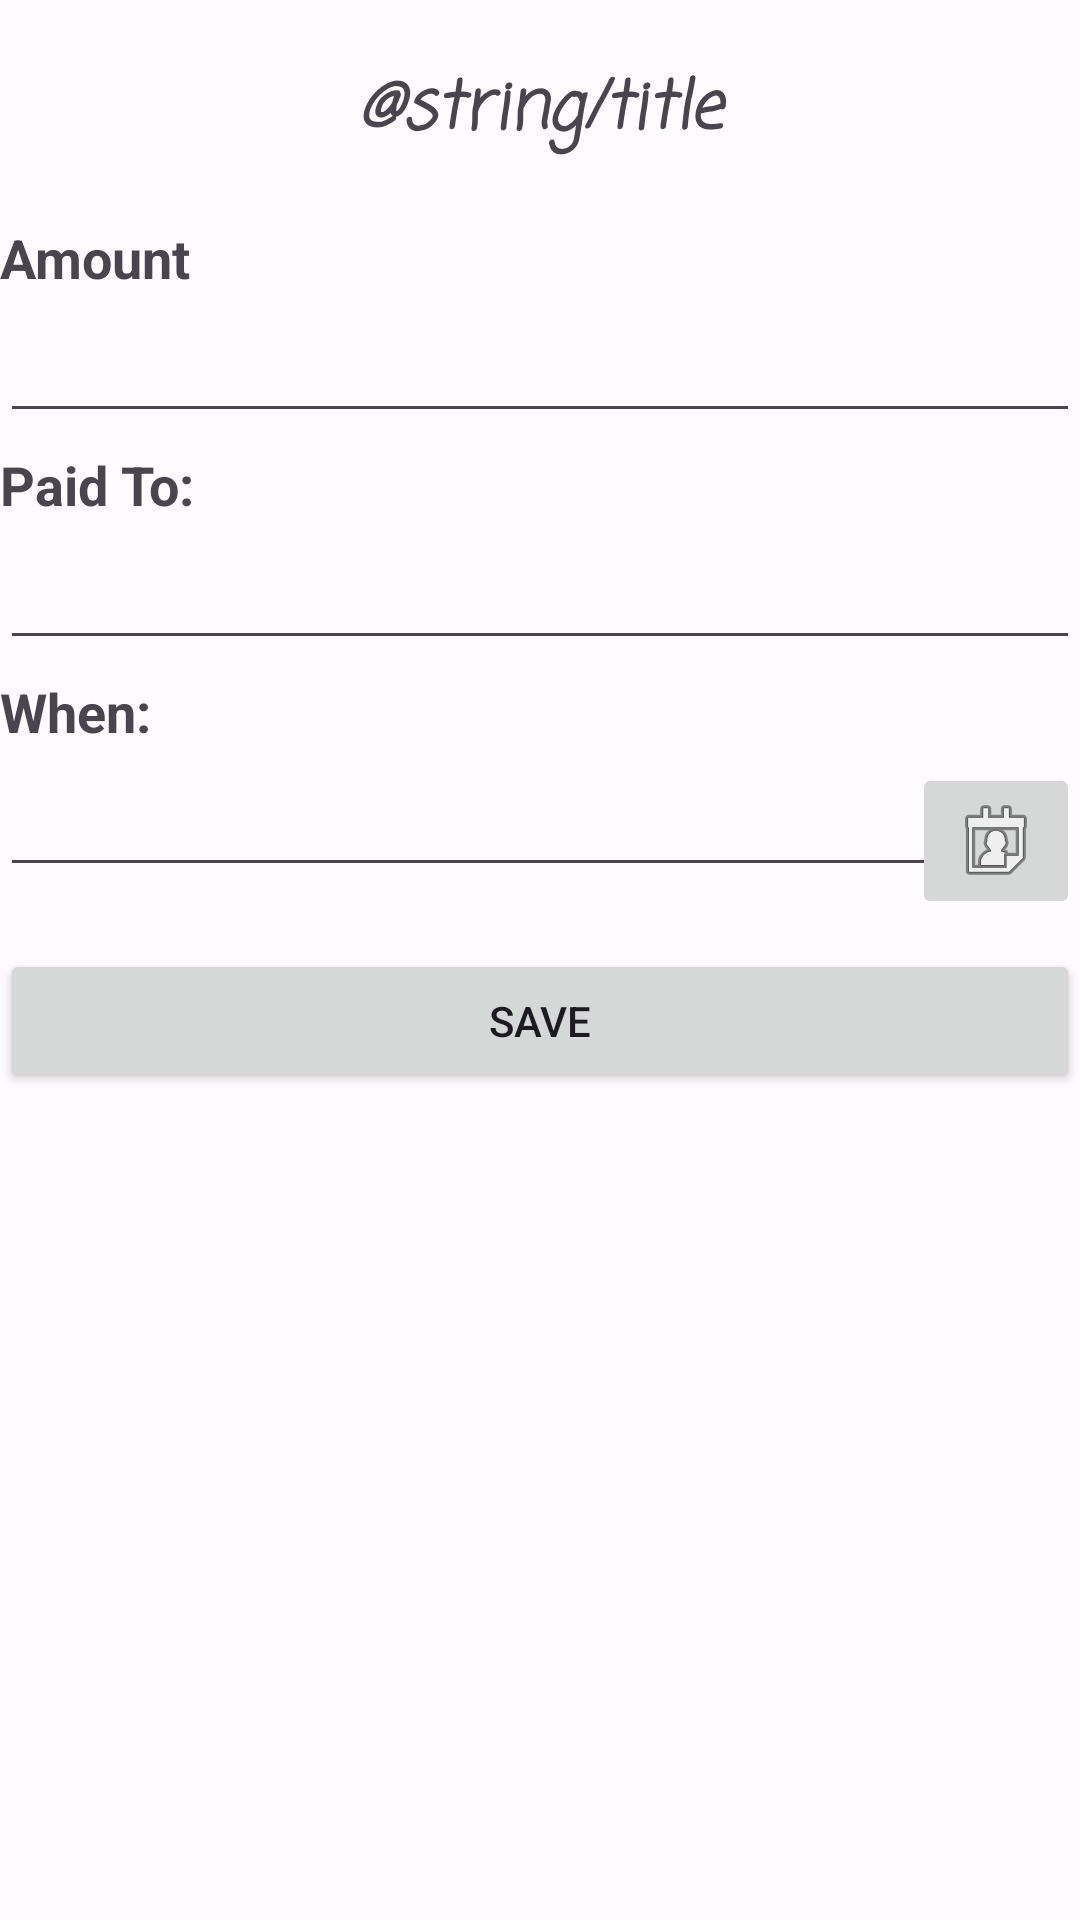

Icons on this 1080x1920 Android screen, each with the point to tap as [x,y]:
calendar: [990,841]
